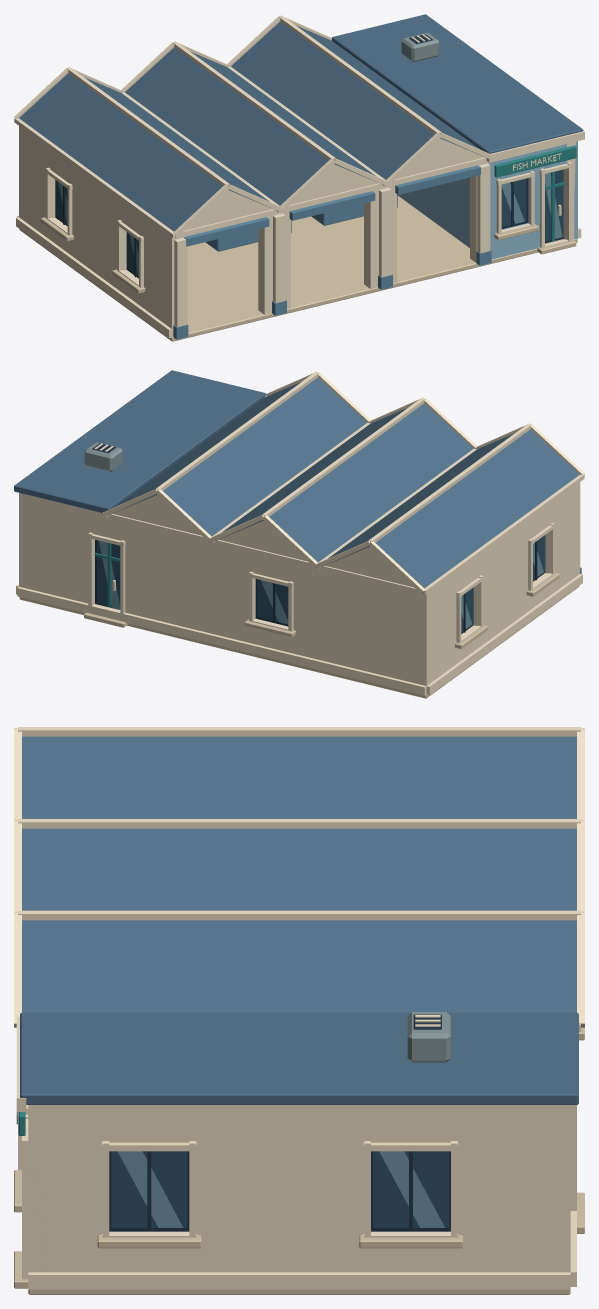
File: harbor_fish_market.glb
The picture shows the model from 3 angles, top to bottom: view 1: azimuth 30°, elevation 25°; view 2: azimuth 150°, elevation 25°; view 3: azimuth 270°, elevation 25°; orthographic projection. The views are drawn at different scales.
Parts seen in each view (by area): view 1: HarborFishMarket_StaticMesh; view 2: HarborFishMarket_StaticMesh; view 3: HarborFishMarket_StaticMesh.
Boxes of the visible parts, x1,y1,x2,y2 form: HarborFishMarket_StaticMesh: (14,14,584,341); HarborFishMarket_StaticMesh: (14,370,584,698); HarborFishMarket_StaticMesh: (14,727,584,1294).
Size of the model in its own units: 14.27 by 4.78 by 9.47.
